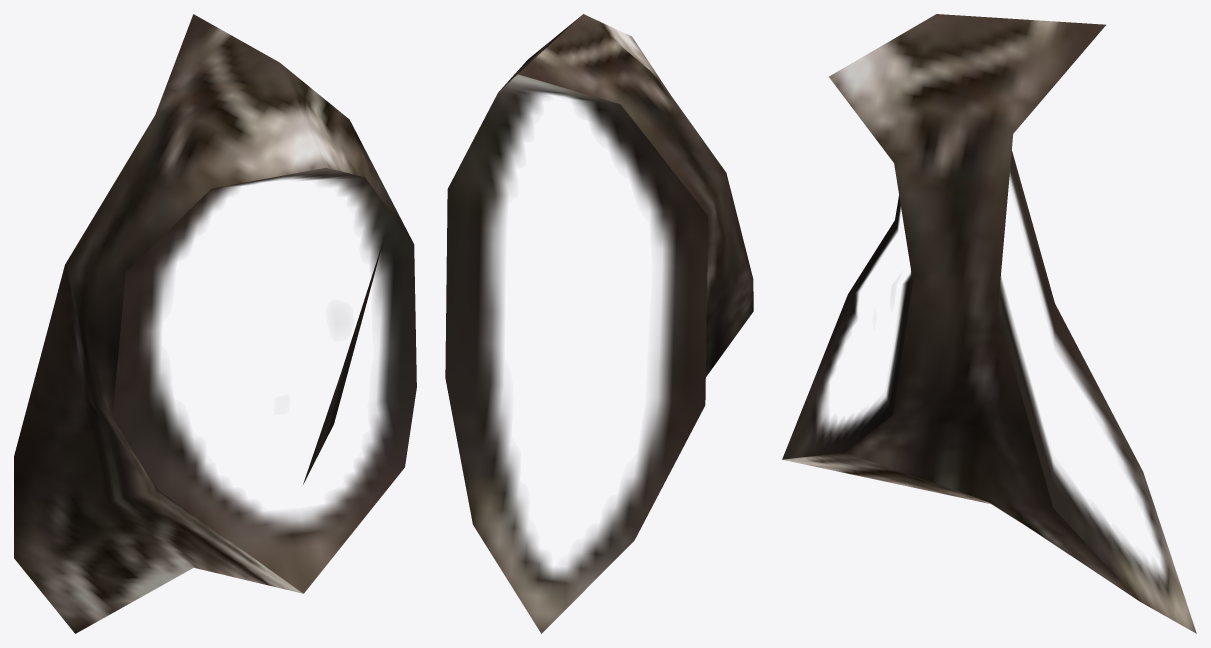
Rendered from shadow_rock_7_ankle_right.glb.
The picture shows the model from 3 angles, left to right: view 1: azimuth 30°, elevation 25°; view 2: azimuth 150°, elevation 25°; view 3: azimuth 270°, elevation 25°; orthographic projection. The views are drawn at different scales.
Parts seen in each view (by area): view 1: model_shadow_rock_7_ankle_right; view 2: model_shadow_rock_7_ankle_right; view 3: model_shadow_rock_7_ankle_right.
Boxes of the visible parts, bbox=[...] form: model_shadow_rock_7_ankle_right: bbox=[14, 14, 416, 633]; model_shadow_rock_7_ankle_right: bbox=[445, 14, 753, 633]; model_shadow_rock_7_ankle_right: bbox=[782, 14, 1196, 633].
Size of the model in its own units: 0.1743 by 0.3134 by 0.1791.
Materials: 1 (1 with a texture image).
